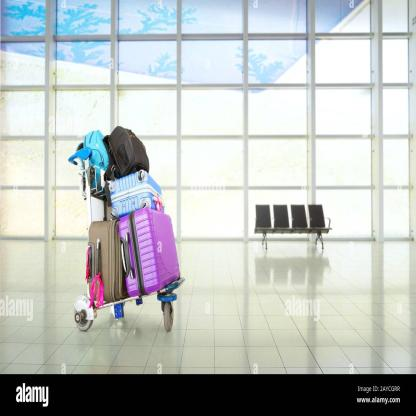airport-trolley: (66, 126, 186, 336)
